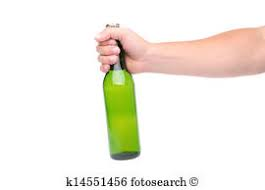beer: (103, 24, 141, 160)
